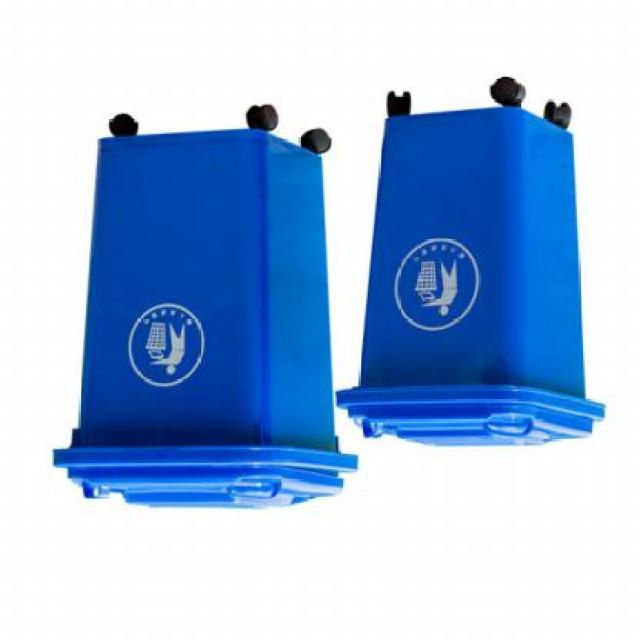garbage container: (42, 84, 362, 527), (332, 57, 618, 453)
